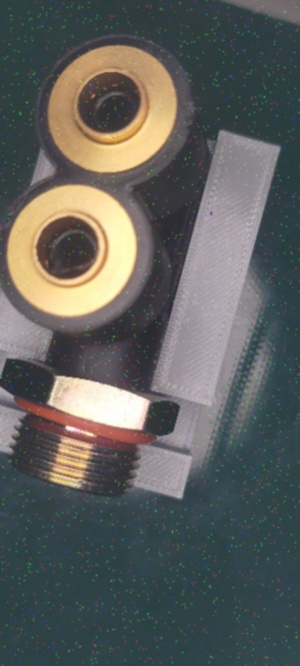off-centered: (41, 225, 101, 278)
white mark: (91, 349, 111, 368), (79, 357, 89, 378)
